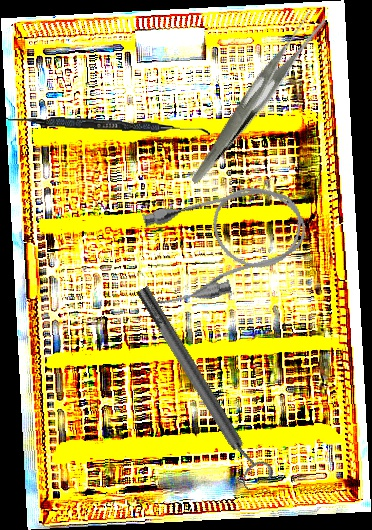Cannula: (130, 172, 318, 314)
Dressing Forceps: (151, 7, 360, 184)
Fixation Ring: (127, 279, 277, 493)
Spatula Surgical: (5, 115, 211, 135)
